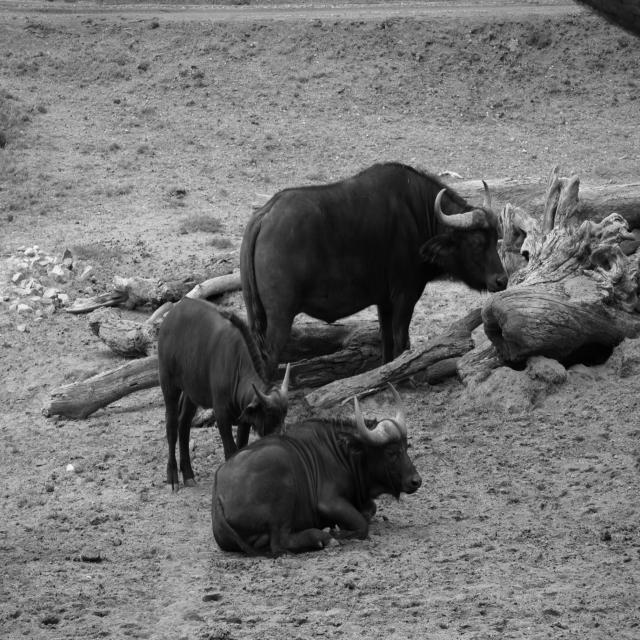Buffalo: (237, 158, 505, 401), (209, 382, 422, 561), (156, 294, 292, 494)
